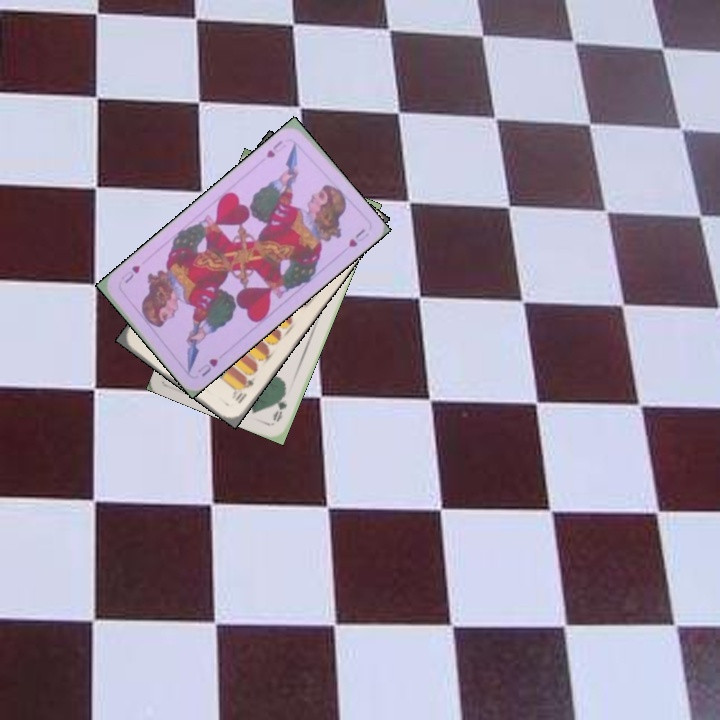E10: (231, 373, 258, 407)
GO: (269, 385, 290, 424)
HU: (194, 354, 220, 379), (262, 136, 288, 161)
